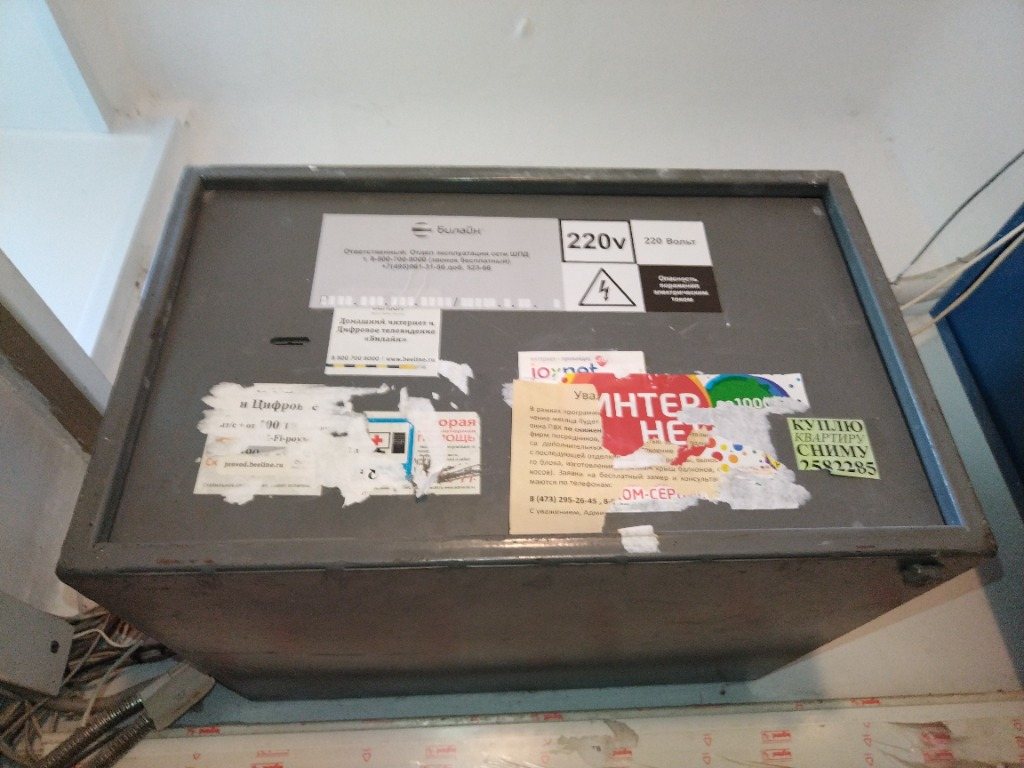e2-6u: (45, 161, 1002, 708)
